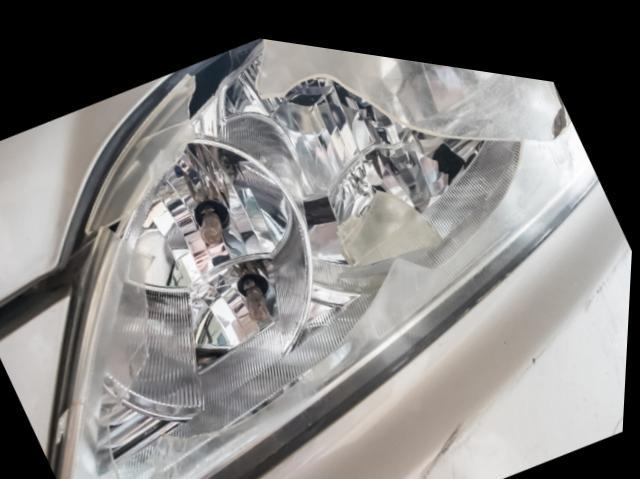lamp broken: (54, 30, 599, 479)
scratch: (418, 405, 486, 469)
